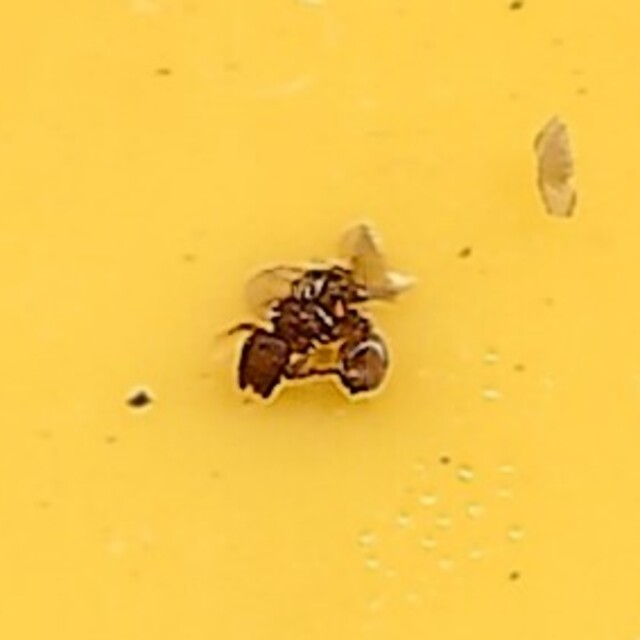Hymenoptera: (226, 233, 414, 407)
